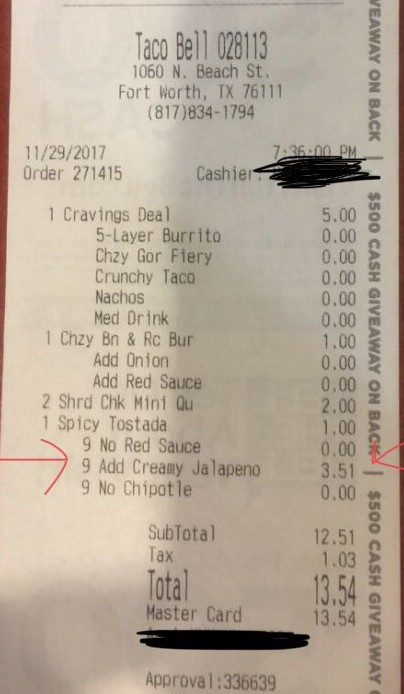Taco Bell: (129, 22, 214, 60)
